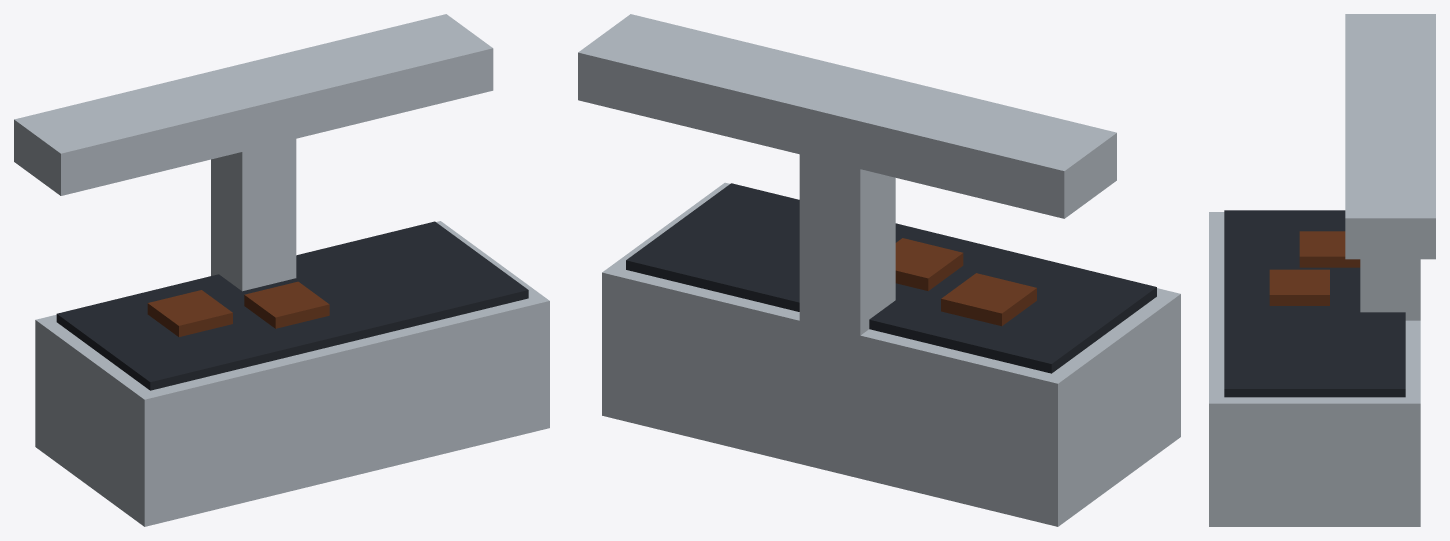
The model's file is lone-part.glb.
3 renders of one model, left to right at view 1: azimuth 30°, elevation 25°; view 2: azimuth 150°, elevation 25°; view 3: azimuth 270°, elevation 25°, orthographic. The views are drawn at different scales.
Parts seen in each view (by area): view 1: Cube.003, hood, griddle, flue, patty.001, patty; view 2: Cube.003, hood, griddle, flue, patty, patty.001; view 3: Cube.003, griddle, hood, flue, patty.001, patty.
Part boxes in pixels (x1,y1,x2,y2): Cube.003: (35, 221, 549, 526); hood: (14, 14, 493, 195); griddle: (56, 221, 528, 390); flue: (211, 139, 296, 291); patty.001: (244, 281, 329, 328); patty: (147, 290, 232, 336); Cube.003: (602, 182, 1180, 526); hood: (578, 14, 1116, 218); griddle: (626, 183, 1156, 373); flue: (799, 154, 895, 335); patty: (941, 273, 1036, 326); patty.001: (895, 238, 963, 290); Cube.003: (1209, 212, 1420, 526); griddle: (1224, 210, 1405, 397); hood: (1345, 14, 1435, 259); flue: (1360, 259, 1420, 320); patty.001: (1269, 269, 1329, 305); patty: (1299, 231, 1360, 267).
Size of the model in its own units: 3.2 by 2.3 by 1.5.
